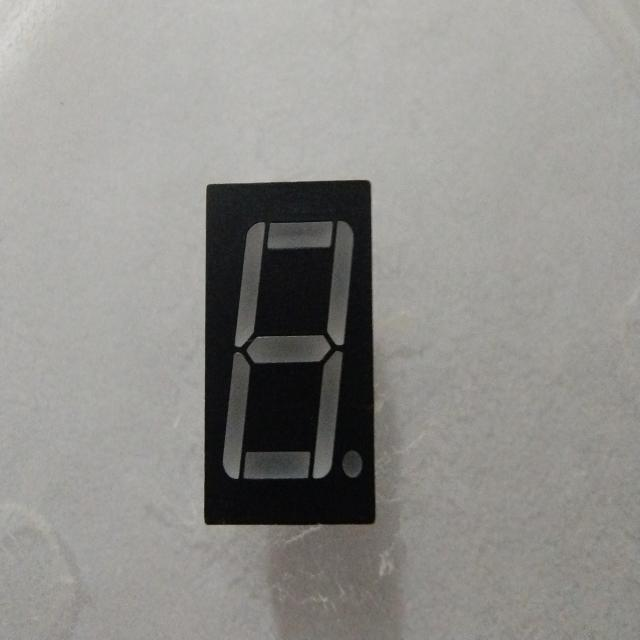7_segments: (197, 166, 383, 530)
